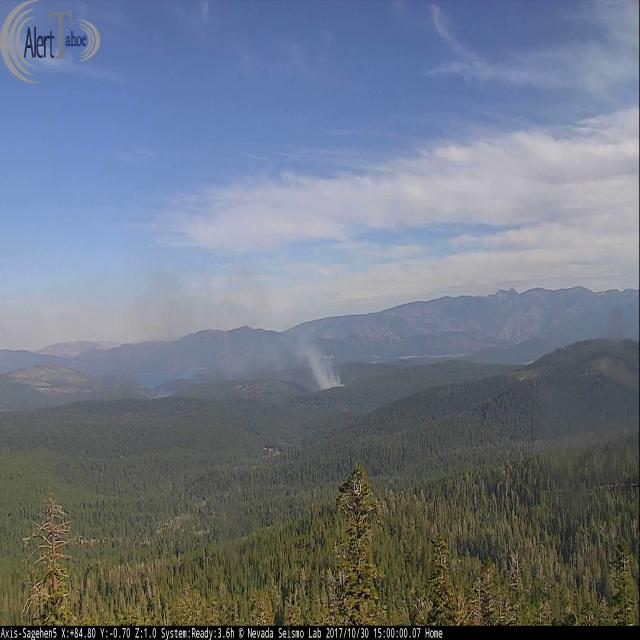smoke: (130, 256, 347, 392)
